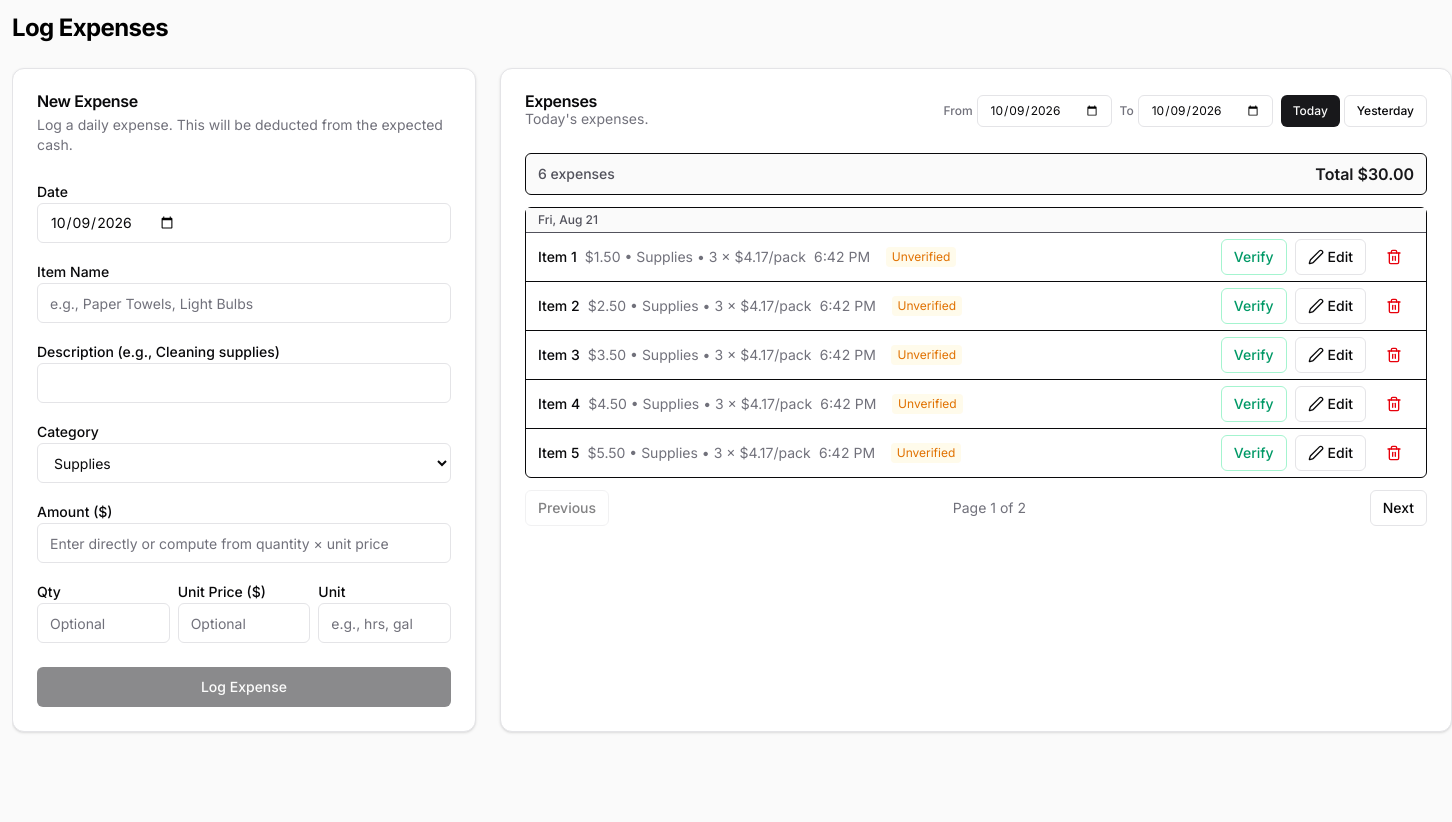
Scenario: Expenses › day grouping + pagination (M-72) › shows pager only beyond page size and navigates with bounds
This screenshot has width=1452, height=822.
Expected: the text "Item 4" is shown, [538,394,580,414]
Expected: the text "Unique Widget X" is not shown
Click the button "Next" at [1398, 508], box [1370,490,1427,526]
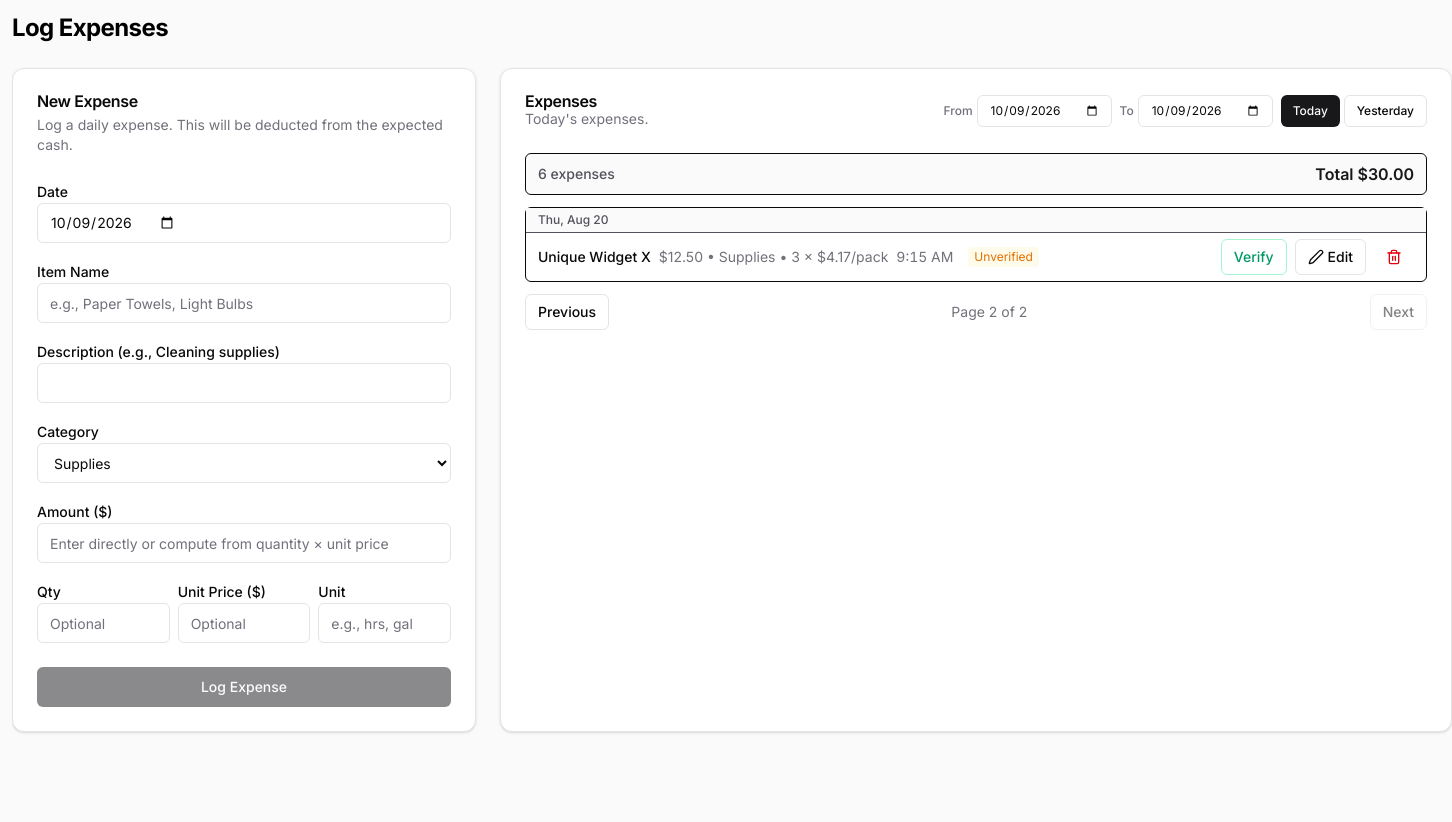
Result: the text "Unique Widget X" is shown at [538,247,651,267]
Result: the text "Page 2 of 2" is shown at [951,302,1027,322]
Result: the button "Next" is disabled at [1370,294,1427,330]
Click the button "Previous" at [567, 312], box [525,294,609,330]
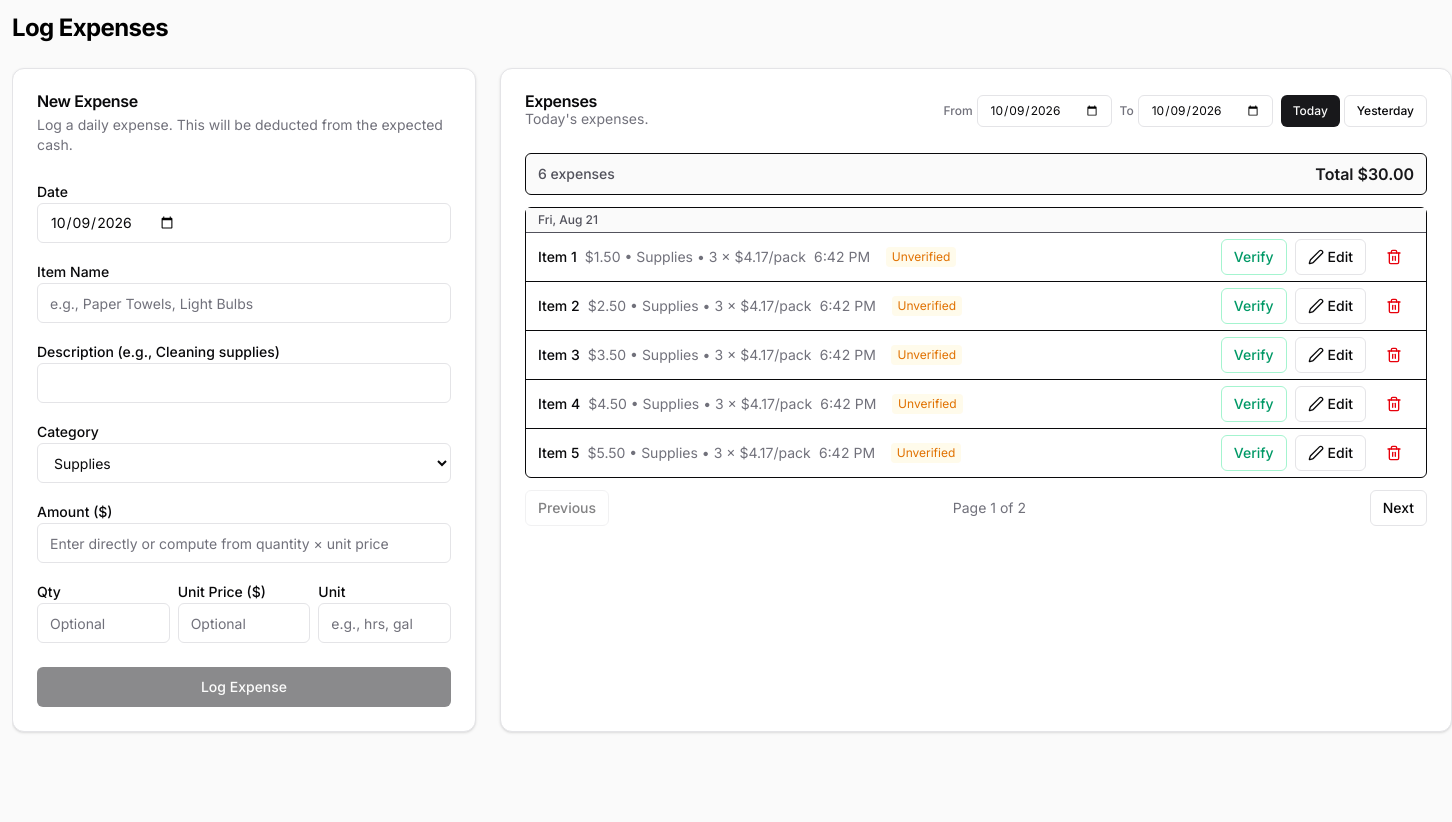
Result: the text "Item 4" is shown at [538,394,580,414]
